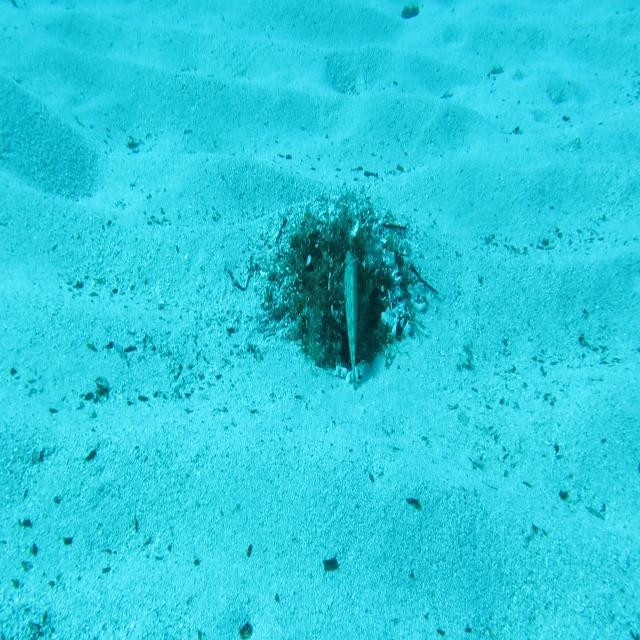FAN: (339, 244, 369, 388)
nest: (253, 200, 428, 394)
